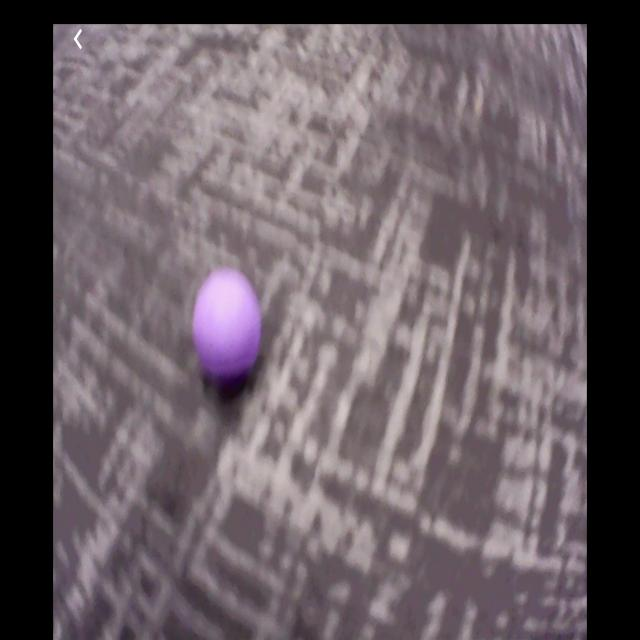ball: (193, 271, 260, 374)
